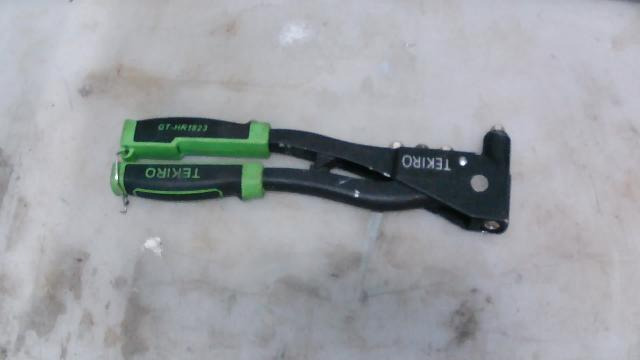tang_rivet: (85, 80, 541, 288)
